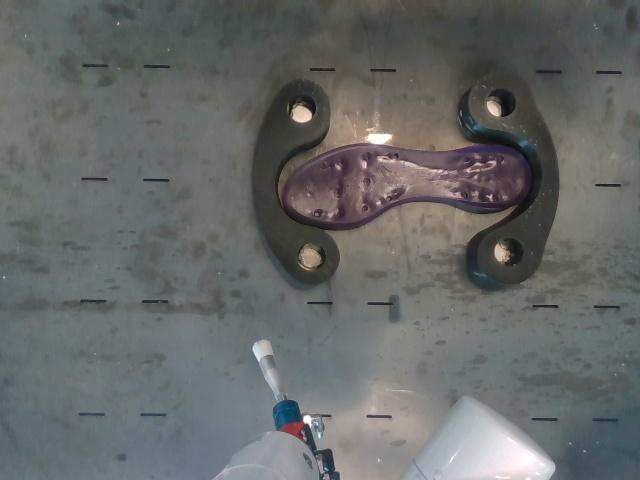shoes: (282, 143, 531, 230)
